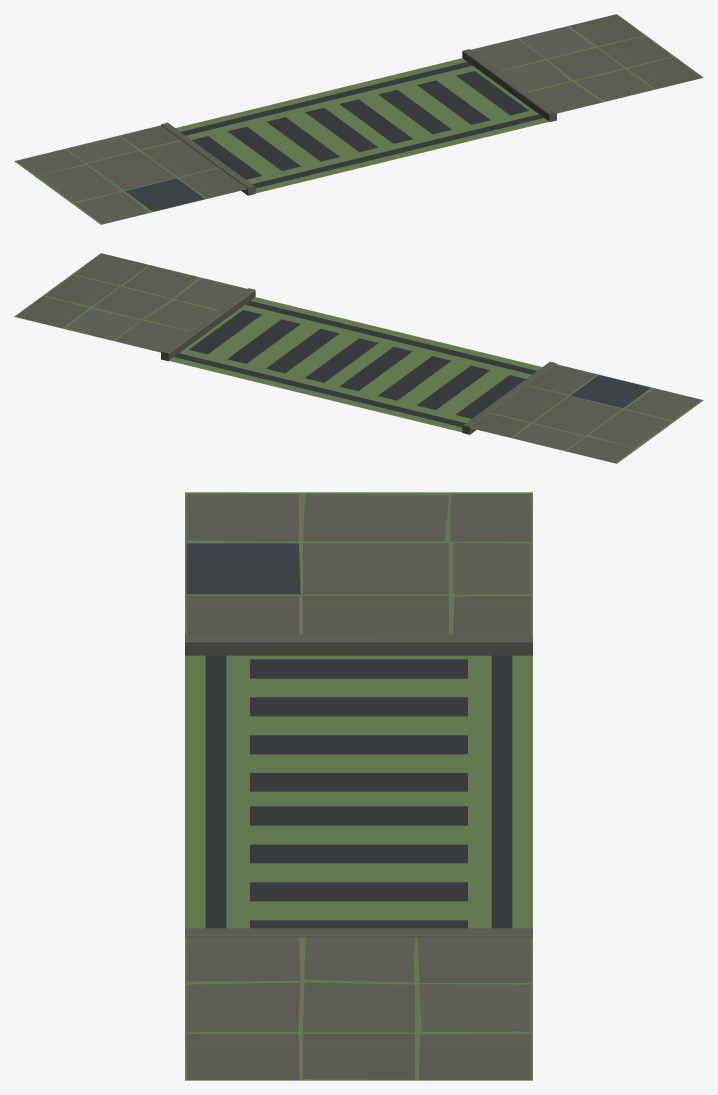
Rendered from Road_23.fbx.
3 views of the same model, one above another, from view 1: azimuth 30°, elevation 25°; view 2: azimuth 150°, elevation 25°; view 3: azimuth 270°, elevation 25° (orthographic). The views are drawn at different scales.
Parts seen in each view (by area): view 1: Road_23; view 2: Road_23; view 3: Road_23.
Boxes of the visible parts, left/top/right/bottom form: Road_23: left=14, top=14, right=703, bottom=224; Road_23: left=14, top=253, right=703, bottom=463; Road_23: left=185, top=492, right=532, bottom=1080.
Bounding box in the file's own units: 12 × 0.15 × 3.
